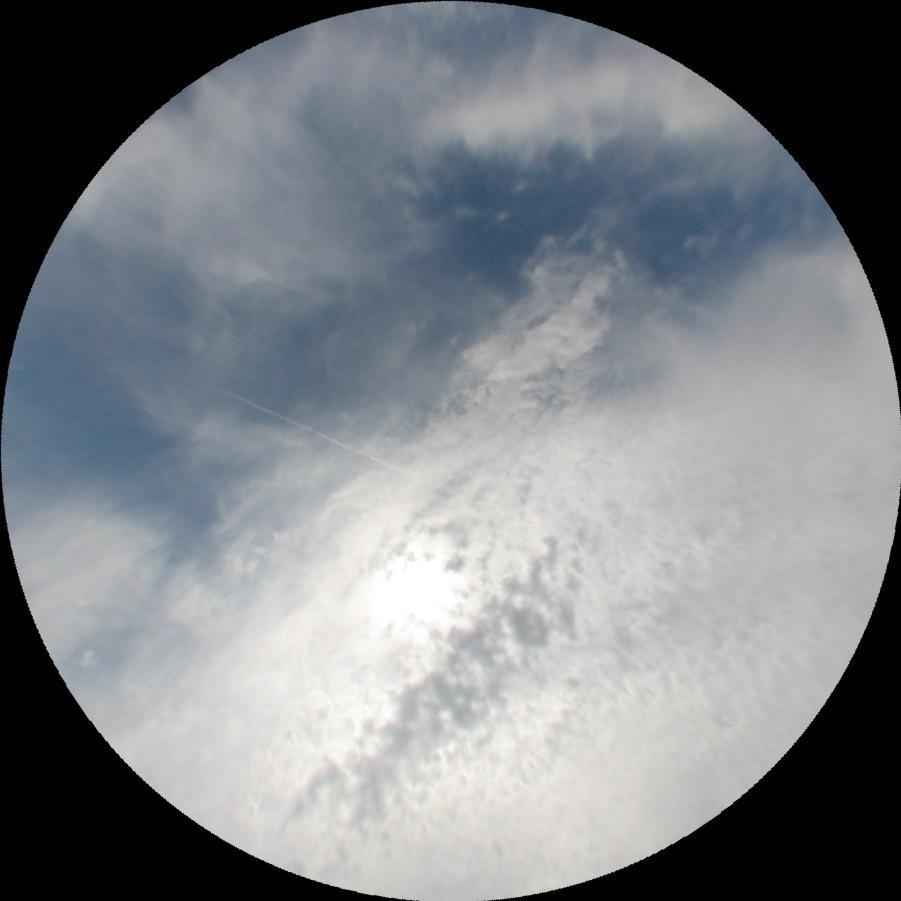contrail young: (182, 369, 399, 471)
sun: (361, 549, 459, 631)
